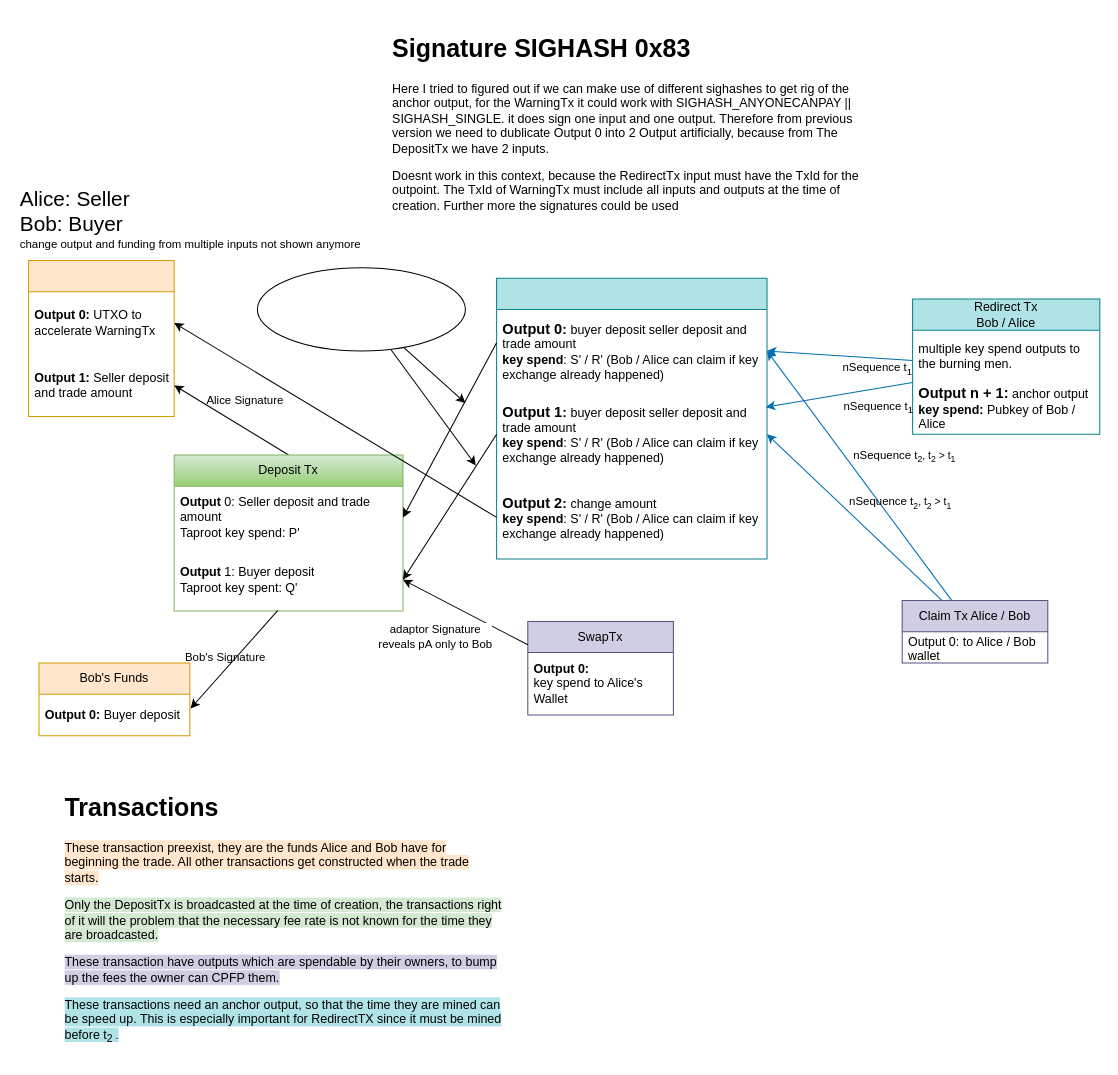
This 1118x1075 diagram has some shape labels left out. Each missing label, with the box of its shape:
Alice's Funds: (28, 259, 174, 417)
Signature has SIGHASH SIGHASH_ANYONECANPAY || SIGHASH_SINGLE: (256, 267, 465, 351)
Warning Tx Alice / Bob: (496, 277, 767, 559)
